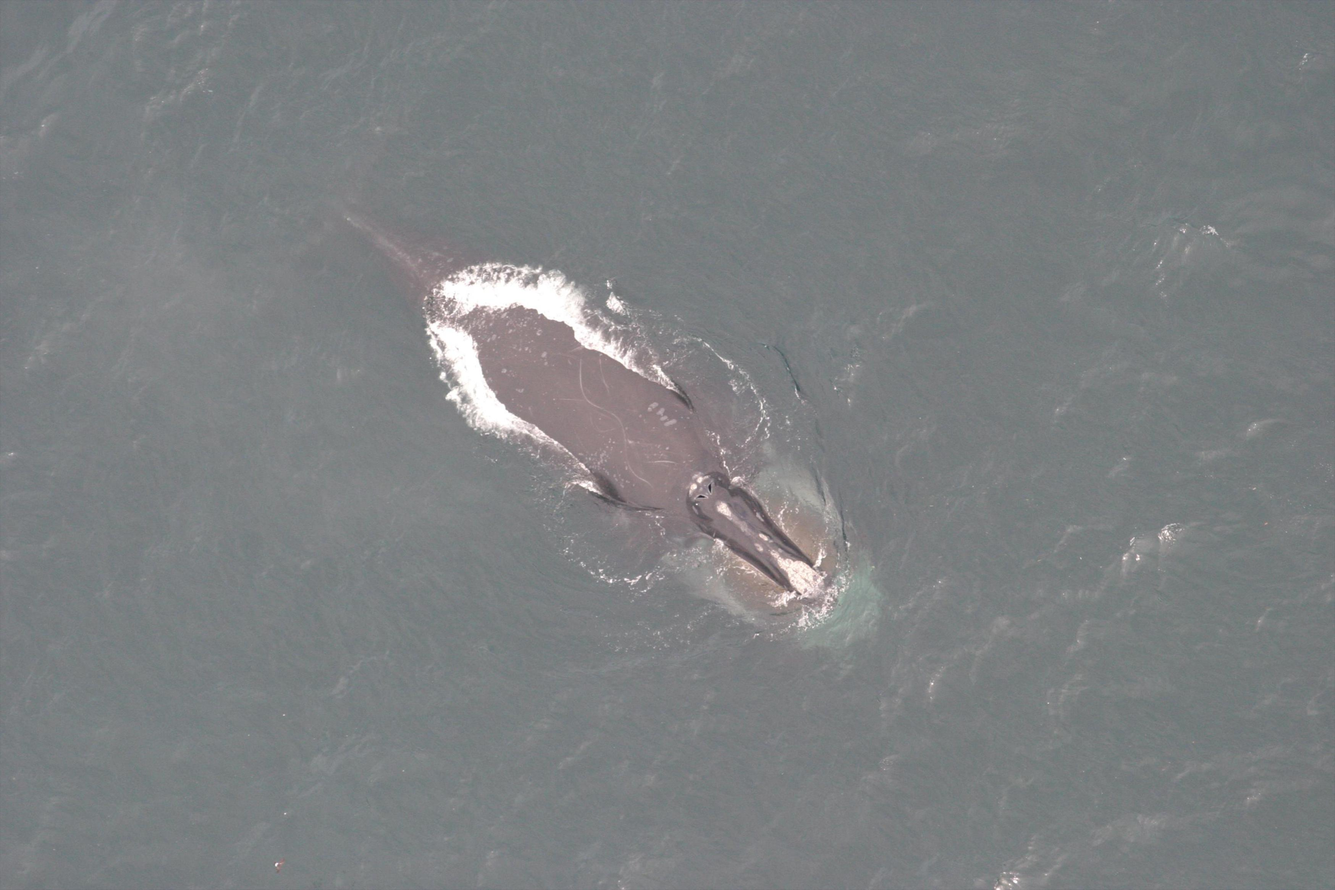whale: (245, 98, 891, 672)
